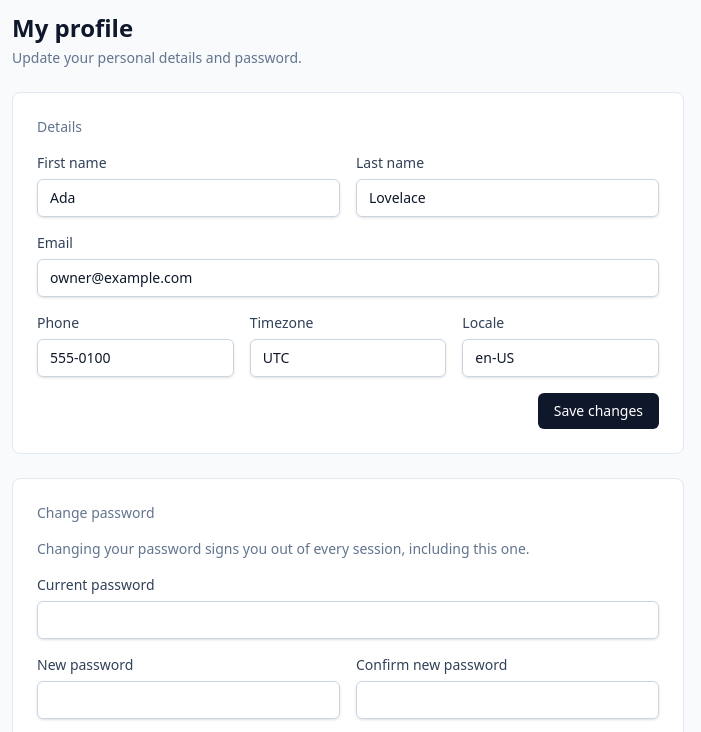
Test: ProfilePage › saves profile changes and refreshes the current user
Replace the text in the field labelled "Last name" with "King" at (508,198), box [356,179,659,217]
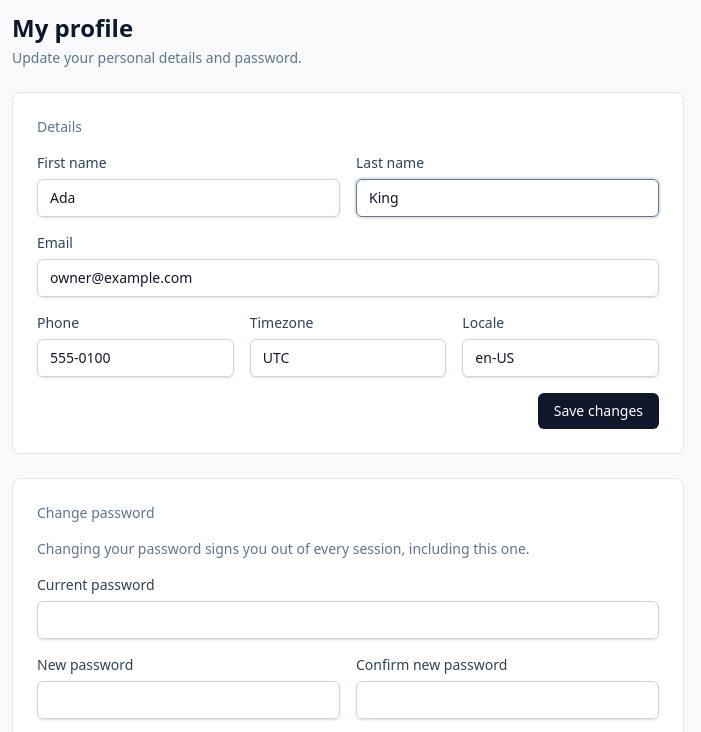
Click the button "Save changes".
click(598, 411)  # box [538,393,659,429]
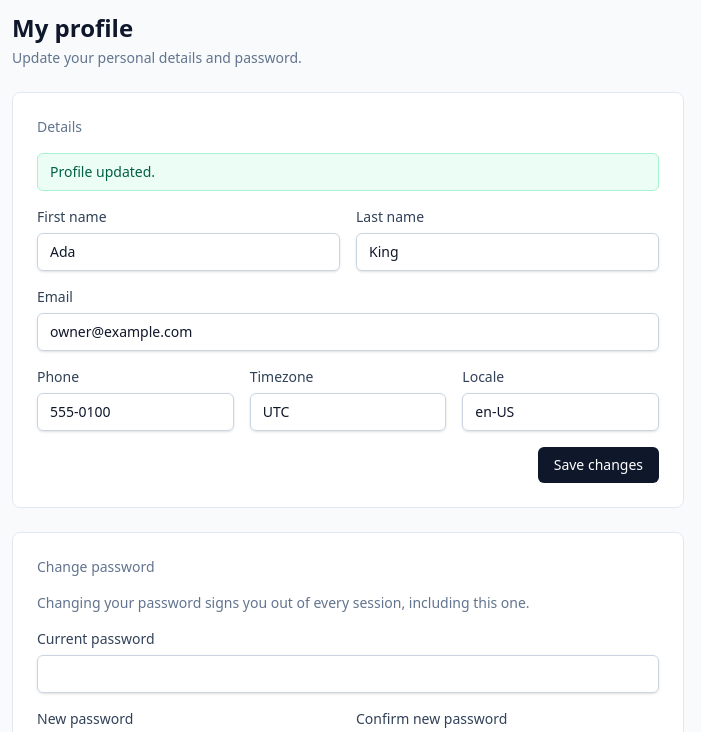
Check: the text "Profile updated." is shown, box [37,153,659,191]
